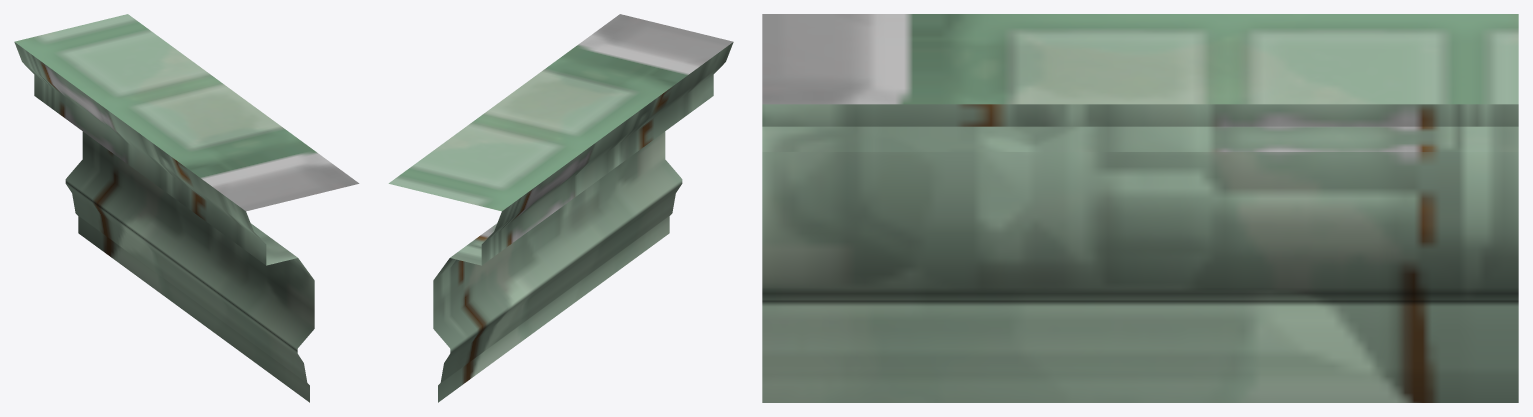
Rendered from qVin_Buld1_RoofCarnies_Centr.fbx.
The picture shows the model from 3 angles, left to right: view 1: azimuth 30°, elevation 25°; view 2: azimuth 150°, elevation 25°; view 3: azimuth 270°, elevation 25°; orthographic projection. The views are drawn at different scales.
Visible parts, largest first — view 1: qVin_Buld1_RoofCarnies_Centr; view 2: qVin_Buld1_RoofCarnies_Centr; view 3: qVin_Buld1_RoofCarnies_Centr.
Boxes of the visible parts, x1,y1,x2,y2 form: qVin_Buld1_RoofCarnies_Centr: [14, 14, 359, 402]; qVin_Buld1_RoofCarnies_Centr: [388, 14, 733, 402]; qVin_Buld1_RoofCarnies_Centr: [762, 14, 1518, 402].
Bounding box in the file's own units: 84.92 × 148 × 300.
Materials: 1 (1 with a texture image).
